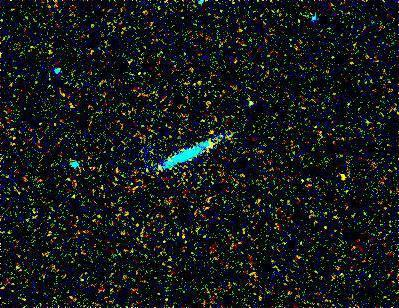star: (328, 162, 358, 192)
